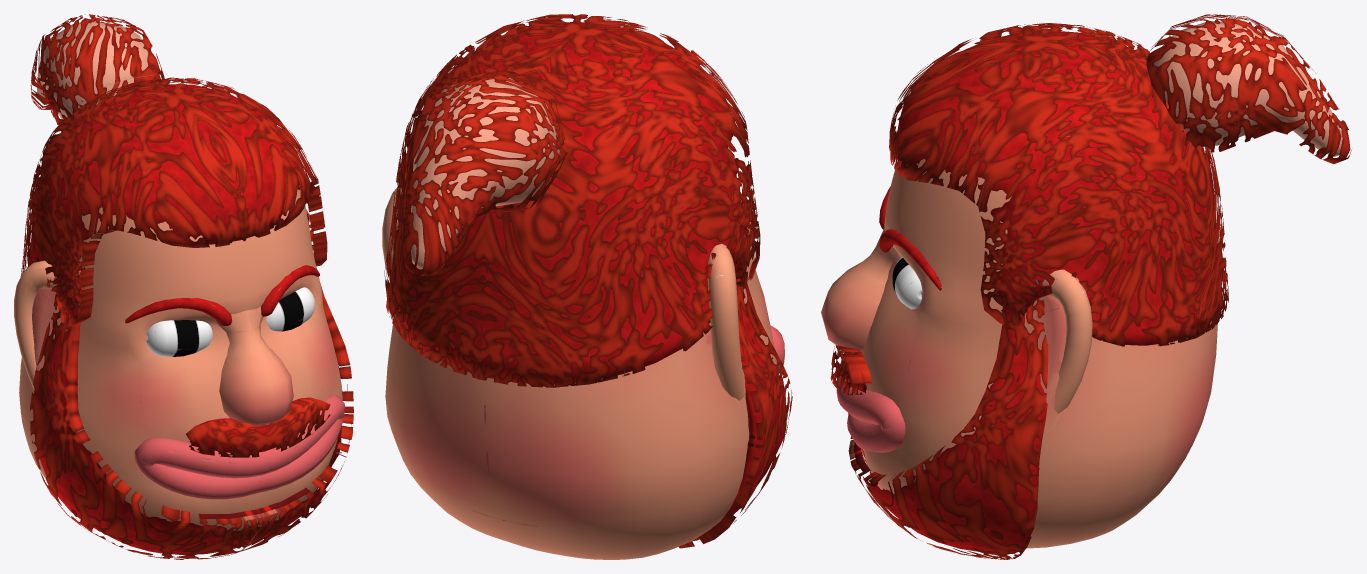
File: peggy.gltf
3 views of the same model, side by side, from view 1: azimuth 30°, elevation 25°; view 2: azimuth 150°, elevation 25°; view 3: azimuth 270°, elevation 25° (orthographic). The views are drawn at different scales.
Visible parts, largest first — view 1: Cube.007; view 2: Cube.007; view 3: Cube.007.
Boxes of the visible parts, bbox=[...] form: Cube.007: bbox=[14, 14, 353, 559]; Cube.007: bbox=[382, 14, 792, 559]; Cube.007: bbox=[821, 14, 1351, 559].
Bounding box in the file's own units: 0.2472 × 0.358 × 0.3336.
1 material, 1 textured.
